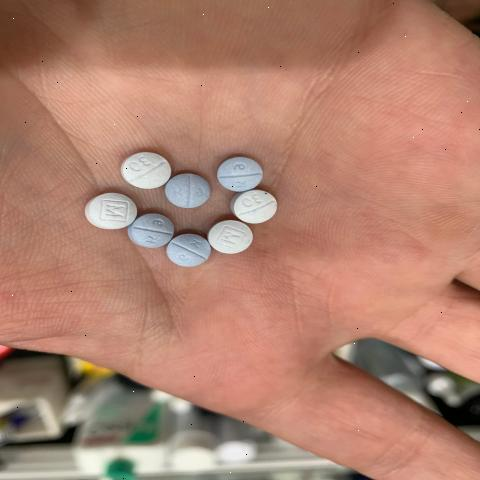Pill: (75, 191, 142, 240), (228, 188, 298, 229), (206, 218, 270, 262), (117, 147, 174, 190)
